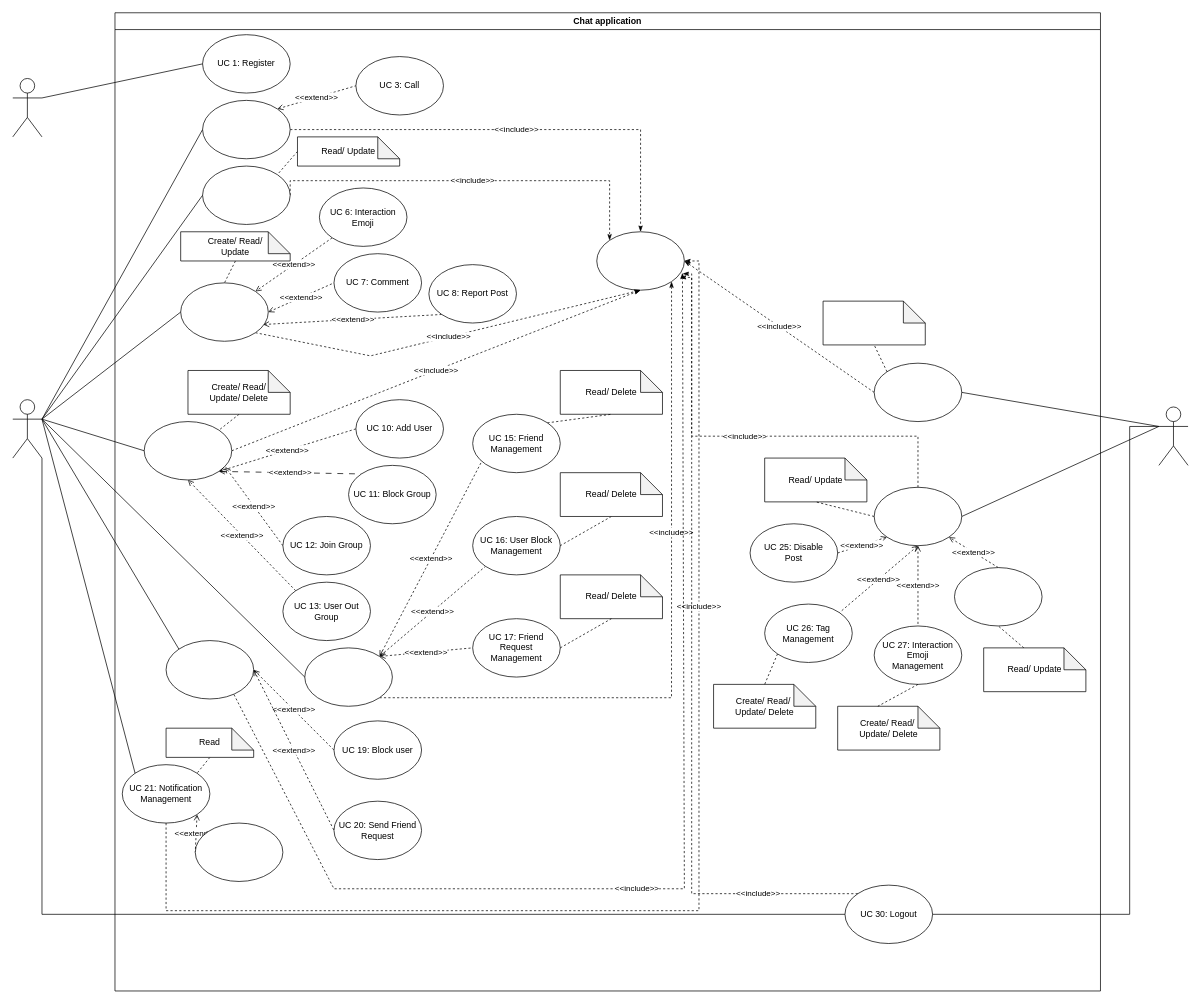
Image size: 1201x1004. Some labels were removed from this diagram. Each missing label, with the centre of its shape:
"Admin" goes at (1173,435).
"Guest" goes at (27,107).
"Read/ Update/ Delete" goes at (873,322).
"UC 14: Contact Management" goes at (348,676).
"UC 18: Search User" goes at (209,669).
"UC 22: Turn Off Notification" goes at (239,851).
"UC 23: User Management" goes at (917,392).
"UC 24: Post Management" goes at (917,516).
"UC 28: Report Post Management" goes at (998,596).
"UC 29: Login" goes at (640,260).
"UC 2: Chatting" goes at (246,129).
"UC 4: Profile Management" goes at (246,194).
"UC 5: Post" goes at (224,311).
"UC 9: Group Management" goes at (187,450).
"User" goes at (27,428).
